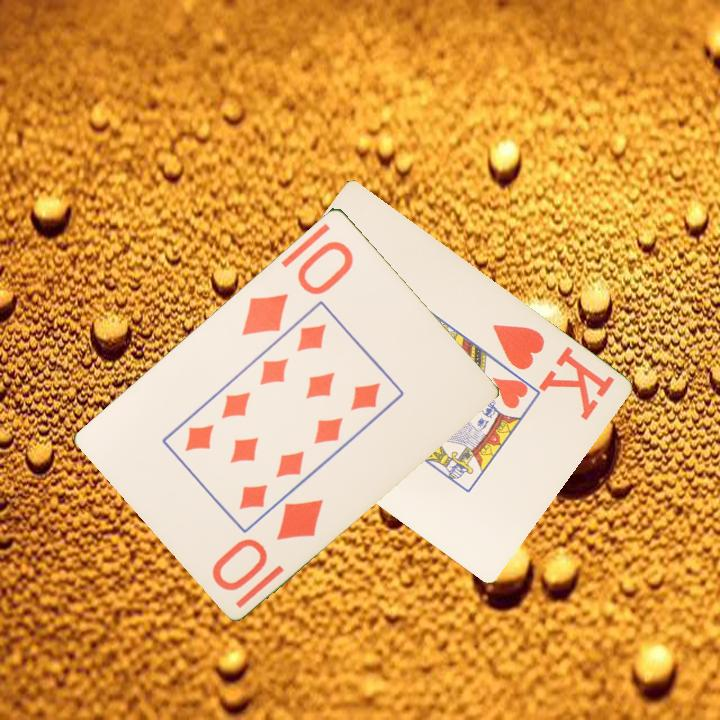10d: (237, 236, 357, 338), (208, 494, 327, 594)
Kh: (488, 320, 617, 423)
